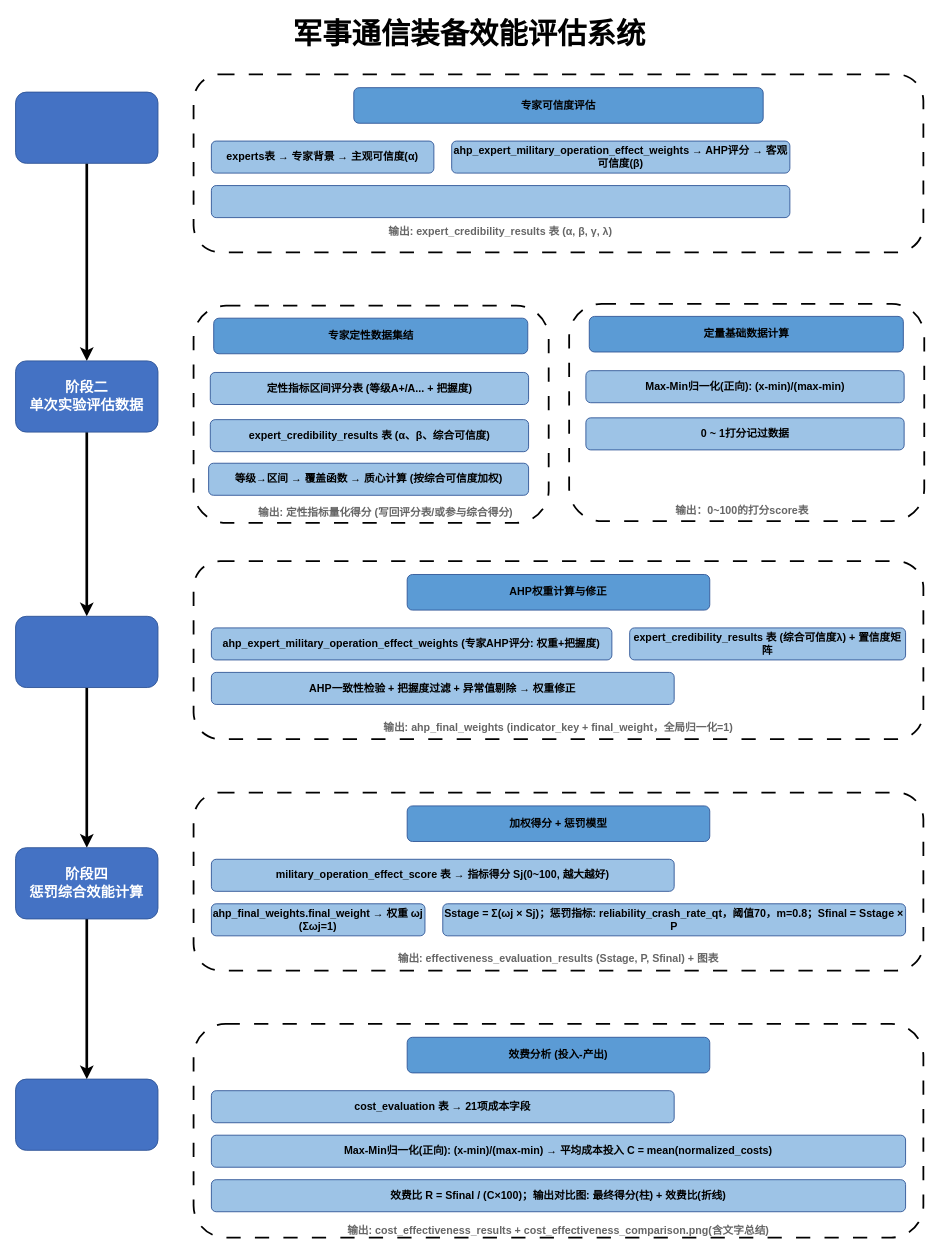
Some shapes in this 949 by 1256 pixel diagram are drawn without their labels. Here are the shapes that lost their labels. From the top down, the centre of each, then its label:
At [86,127]: "阶段一 专家可信度评估".
At [500,201]: "把握度 → 综合可信度(γ) → 专家最终可信度(λ)".
At [86,651]: "阶段一 AHP权重矩阵构建".
At [86,1114]: "阶段五 成本归一化与效费比".
